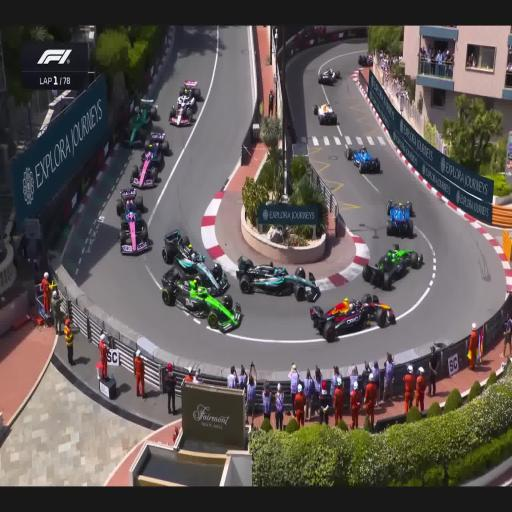f1_car: (162, 271, 241, 332), (162, 229, 229, 295), (310, 294, 395, 342), (236, 256, 320, 302), (362, 244, 423, 289), (130, 131, 170, 188), (116, 188, 148, 253), (123, 99, 157, 147), (169, 80, 201, 125), (345, 146, 381, 173), (386, 200, 413, 236), (313, 104, 337, 124), (318, 68, 341, 84), (358, 54, 373, 66)
